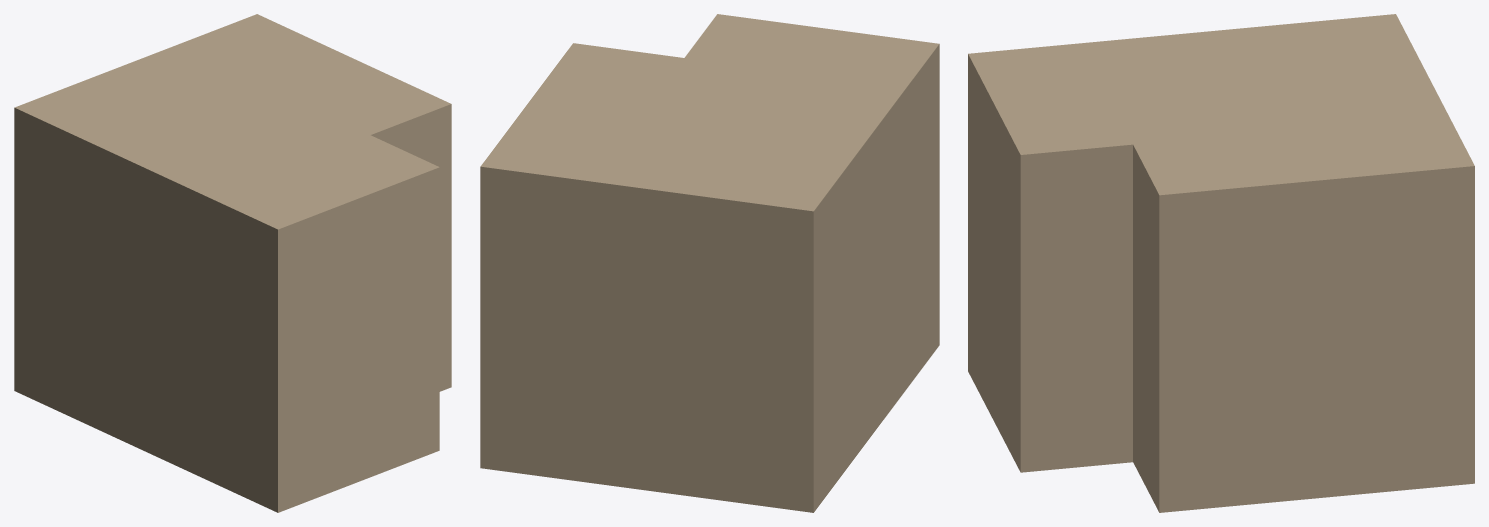
Rendered from bld_106456358.dae.
The picture shows the model from 3 angles, left to right: view 1: azimuth 30°, elevation 25°; view 2: azimuth 150°, elevation 25°; view 3: azimuth 270°, elevation 25°; orthographic projection. The views are drawn at different scales.
Visible parts, largest first — view 1: bld_106456358; view 2: bld_106456358; view 3: bld_106456358.
Part boxes in pixels (x1,y1,x2,y2): bld_106456358: (14,14,451,512); bld_106456358: (480,14,939,512); bld_106456358: (968,14,1474,512).
Bounding box in the file's own units: 9.8 × 11.57 × 8.
